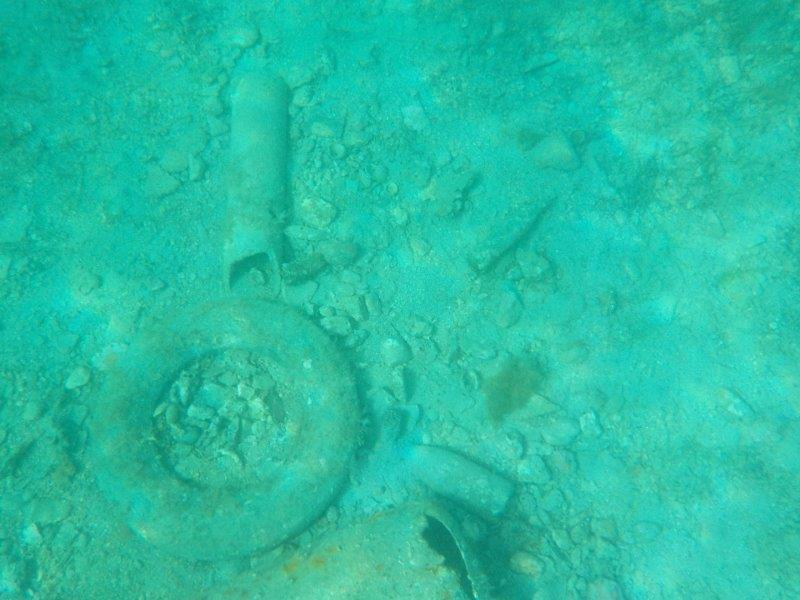bottle: (393, 437, 517, 525), (463, 185, 560, 277)
tire: (83, 292, 369, 566)
